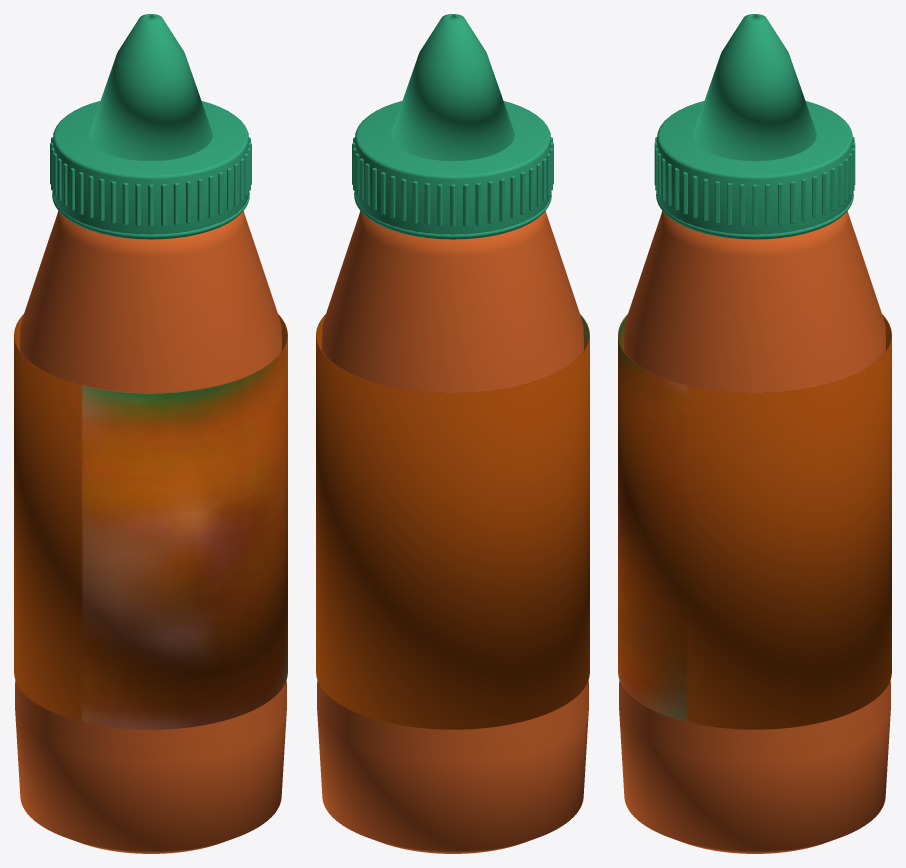
Rendered from fridge_contents__green_nozzle_sauce.glb.
3 views of the same model, side by side, from view 1: azimuth 30°, elevation 25°; view 2: azimuth 150°, elevation 25°; view 3: azimuth 270°, elevation 25° (orthographic).
Visible parts, largest first — view 1: photo paper label, hollow container, removable closure, tapered nozzle, closure lower bead; view 2: photo paper label, hollow container, removable closure, tapered nozzle, closure lower bead; view 3: photo paper label, hollow container, removable closure, tapered nozzle, closure lower bead.
Part boxes in pixels (bbox=[...]): photo paper label: bbox=[14, 314, 287, 729]; hollow container: bbox=[15, 211, 286, 853]; removable closure: bbox=[53, 101, 248, 239]; tapered nozzle: bbox=[89, 14, 212, 161]; closure lower bead: bbox=[52, 191, 249, 238]; photo paper label: bbox=[316, 314, 589, 729]; hollow container: bbox=[317, 211, 588, 853]; removable closure: bbox=[355, 101, 550, 239]; tapered nozzle: bbox=[391, 14, 514, 161]; closure lower bead: bbox=[354, 191, 551, 238]; photo paper label: bbox=[618, 314, 891, 729]; hollow container: bbox=[619, 211, 890, 853]; removable closure: bbox=[657, 101, 852, 239]; tapered nozzle: bbox=[693, 14, 816, 161]; closure lower bead: bbox=[656, 191, 853, 238].
Bounding box in the file's own units: 0.0614 × 0.198 × 0.0614.
Materials: 4 (1 with a texture image).
